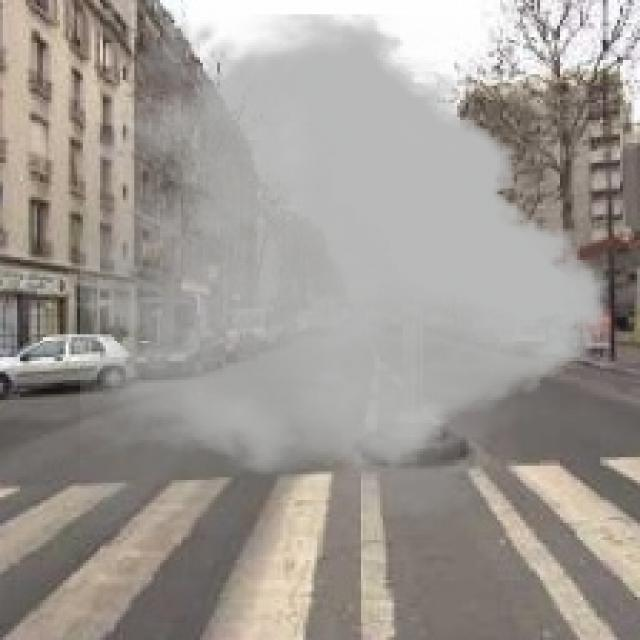Smoke: (80, 6, 609, 534)
